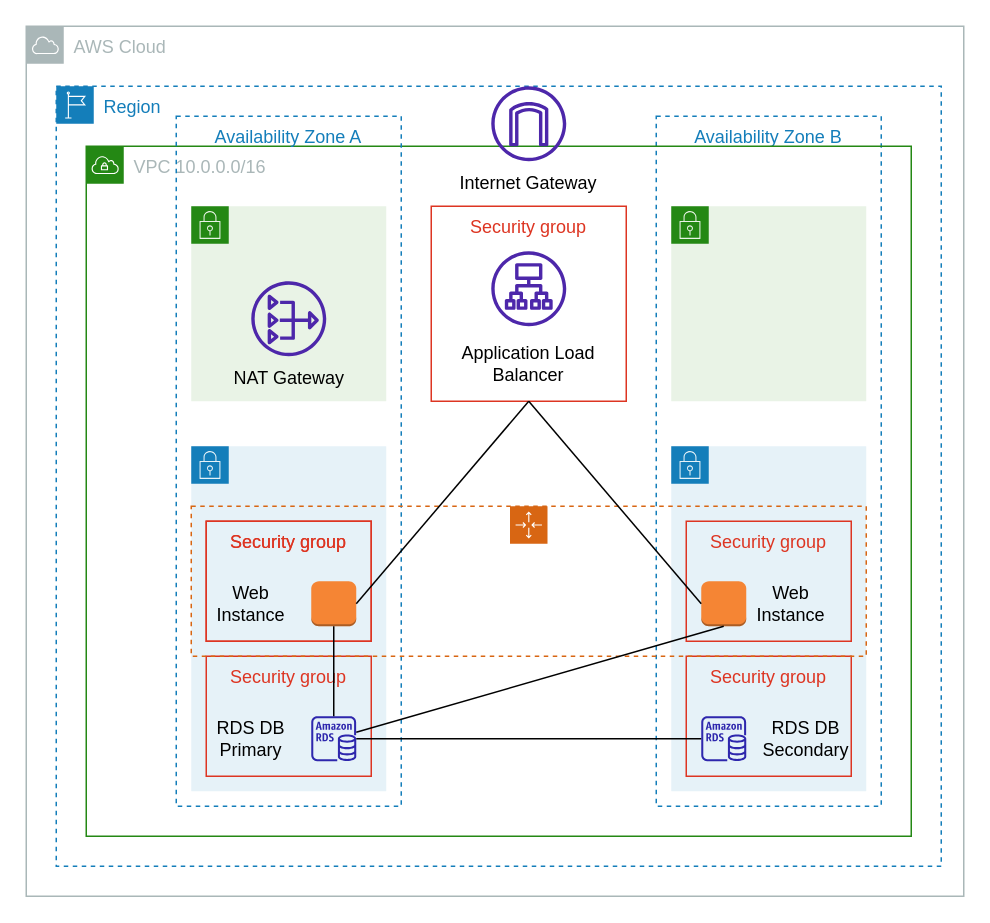
The diagram is 990 pixels wide and 923 high, and some of its shapes have lost their labels. Here are the shapes that lost their labels. From the top down, the box of each, then its label:
(190, 205, 386, 401): Public subnet 1: 10.0.0.0/24
(670, 205, 866, 401): Public subnet 2: 10.0.2.0/24
(190, 505, 866, 656): Auto Scaling group
(190, 445, 386, 791): Private subnet 1: 10.0.1.0/24
(670, 445, 866, 791): Private subnet 2: 10.0.3.0/24
